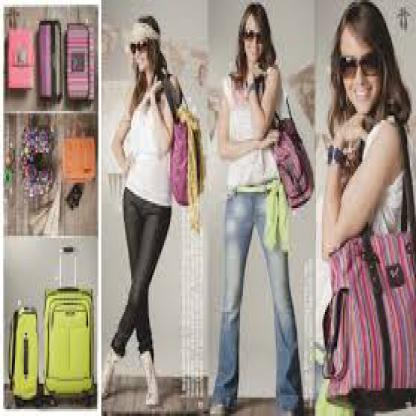morral: (322, 227, 415, 412), (261, 104, 318, 215), (161, 109, 207, 215)
